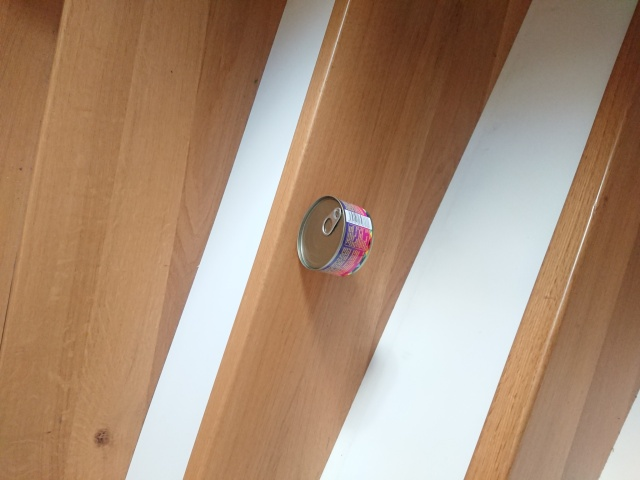Giana Tuna Salad Mexico 185g: (294, 192, 375, 281)
